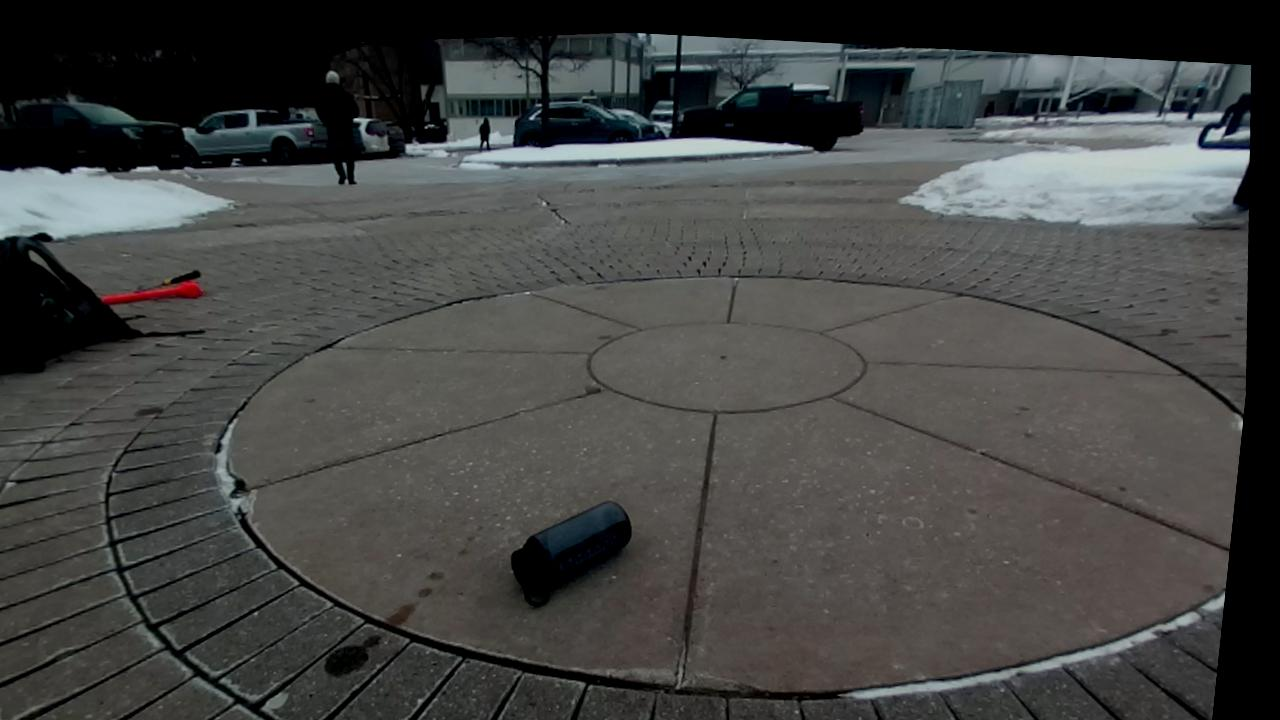bottle: (511, 501, 630, 606)
mallet: (101, 281, 200, 305)
